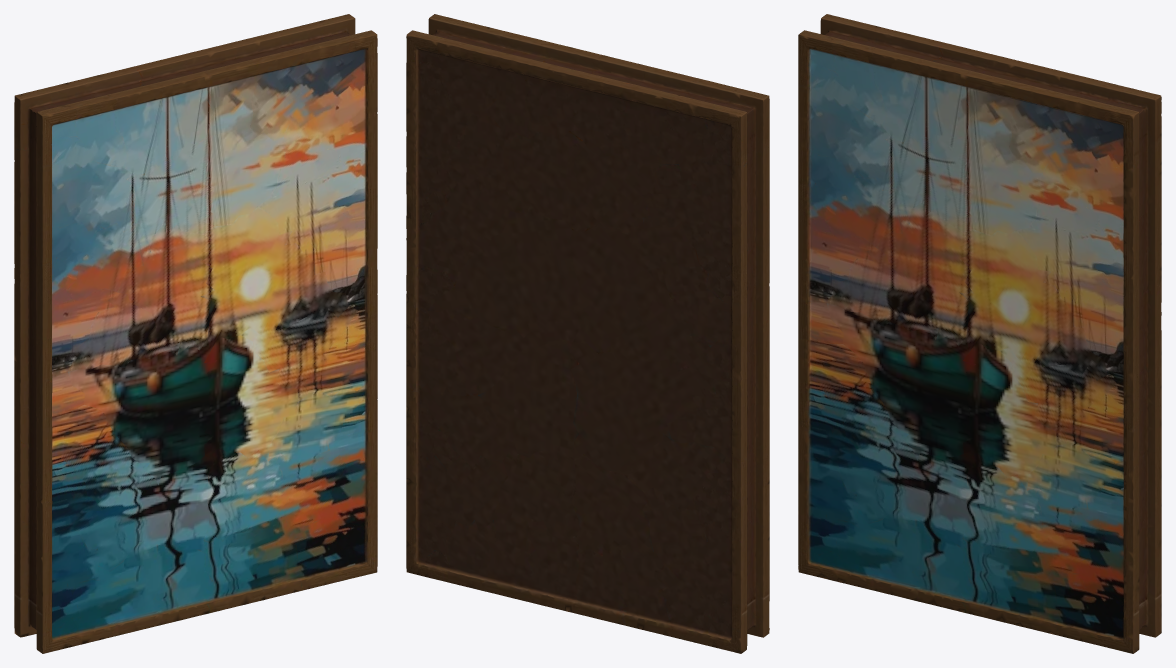
The model's file is Meshy_AI_Harbor_Sunset_Reflect_0920124309_texture.glb.
3 views of the same model, side by side, from view 1: azimuth 30°, elevation 25°; view 2: azimuth 150°, elevation 25°; view 3: azimuth 330°, elevation 25° (orthographic).
Size of the model in its own units: 1.24 by 1.9 by 0.1825.
1 material, 1 textured.
